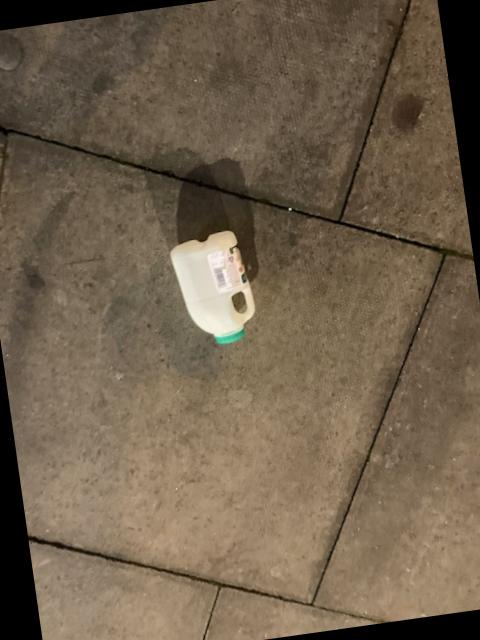plastic: (173, 232, 257, 344)
